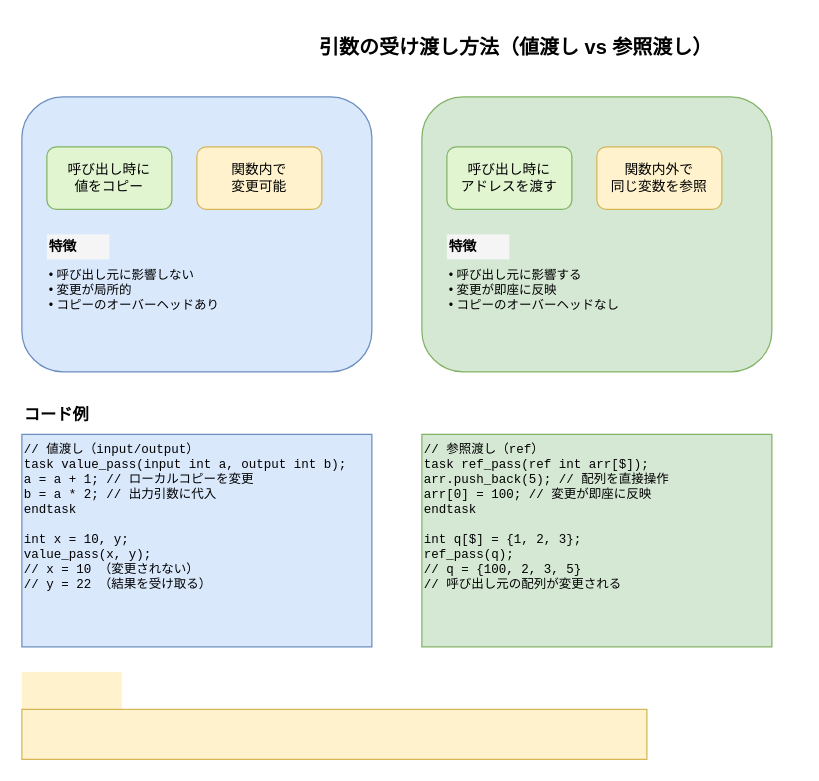
Some shapes in this 819 by 781 pixel diagram are drawn without their labels. The shapes that lost their labels are listed below. From the top down, each one's box as (x1, y1, x2, y2) in pixels, then its label:
(21, 96, 372, 372): 値渡し（input/output）
(421, 96, 772, 372): 参照渡し（ref）
(21, 671, 121, 709): 使用場面
(21, 708, 647, 759): 値渡し（input/output） : 単純な値の受け渡し、計算結果の返却 参照渡し（ref） : 大きな配列/構造体の操作、複数の値を同時に変更
